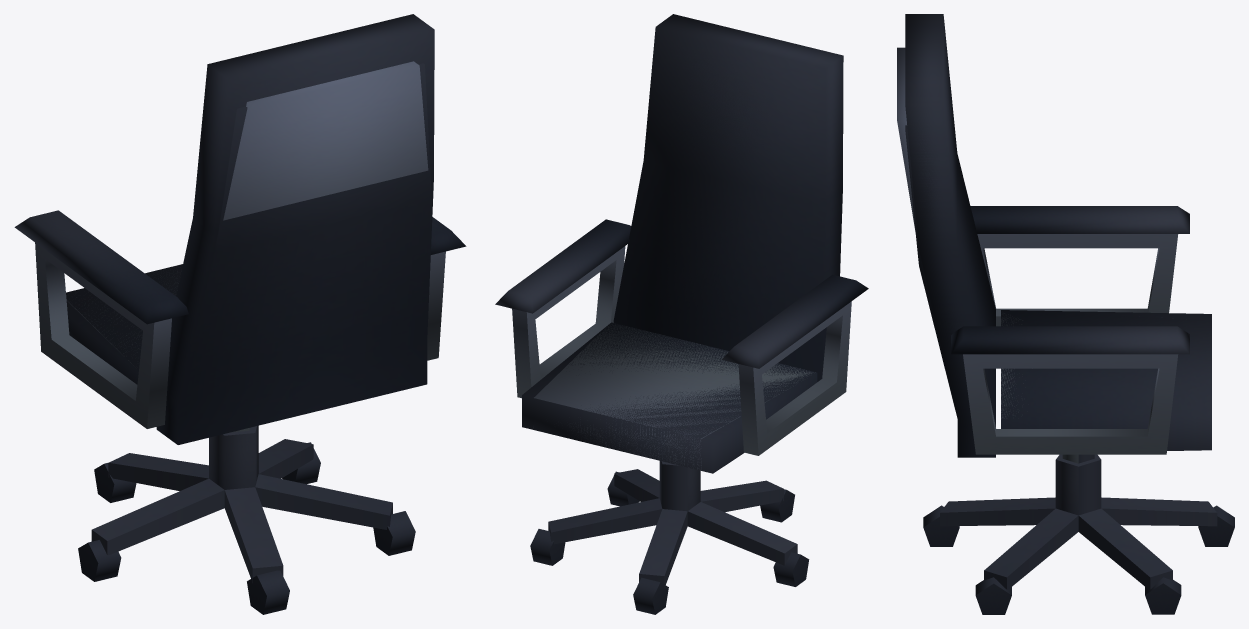
Rendered from Chairs.FBX.
3 views of the same model, side by side, from view 1: azimuth 30°, elevation 25°; view 2: azimuth 150°, elevation 25°; view 3: azimuth 270°, elevation 25° (orthographic). The views are drawn at different scales.
Visible parts, largest first — view 1: Box318, Box322, Box326, Box323; view 2: Box318, Box323, Box326, Box322; view 3: Box318, Box323, Box322, Box326.
Part boxes in pixels (x1,y1,x2,y2): Box318: [14, 14, 466, 614]; Box322: [66, 63, 431, 402]; Box326: [66, 61, 428, 365]; Box323: [67, 20, 434, 614]; Box318: [495, 14, 868, 614]; Box323: [522, 28, 841, 613]; Box326: [533, 323, 815, 469]; Box322: [534, 323, 816, 469]; Box318: [905, 14, 1234, 614]; Box323: [905, 14, 1234, 614]; Box322: [905, 125, 1211, 418]; Box326: [897, 47, 1023, 418].
Size of the model in its own units: 27.26 by 45.42 by 27.71.
